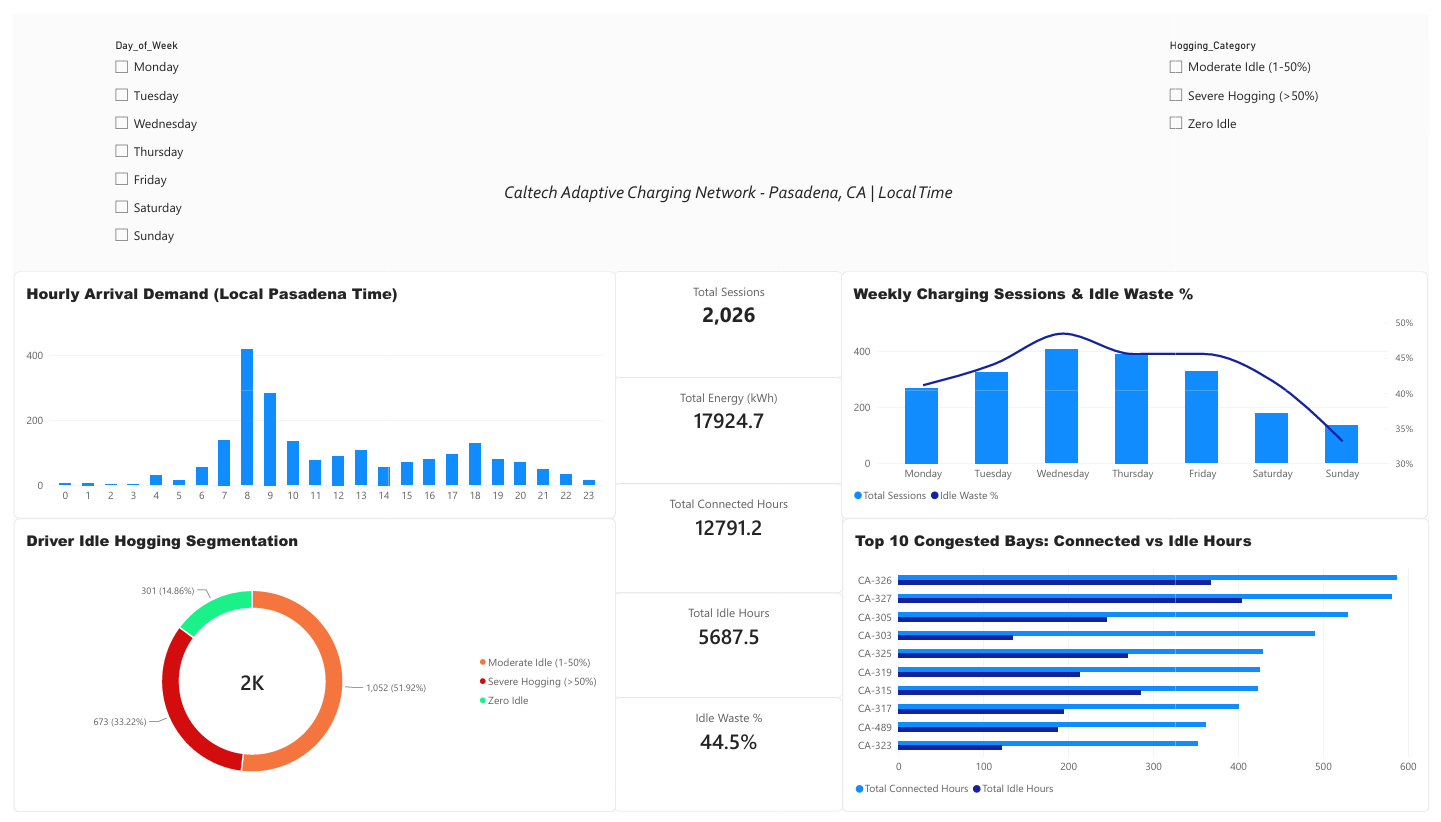

Layout of this report page (visuals, bound fields, positions):
{"tool":"powerbi","page":{"name":"Page 1","canvas":[1920,1080],"ordinal":0},"visuals":[{"type":"textbox","box":[467.2,140,1031.2,140],"z":1},{"type":"textbox","box":[664.8,226.4,798.6,53.5],"z":2},{"type":"slicer","fields":{"Values":["ACN_Cleaned_Real.Day_of_Week"]},"box":[129.7,32.9,279.9,352],"z":3},{"type":"slicer","fields":{"Values":["ACN_Cleaned_Real.Hogging_Category"]},"box":[1560.2,32.9,317,333.4],"z":4},{"type":"cardVisual","fields":{"Data":["ACN_Cleaned_Real.Total Sessions"]},"box":[813,347.9,312.9,144.1],"z":5},{"type":"cardVisual","fields":{"Data":["ACN_Cleaned_Real.Total Energy (kWh)"]},"box":[813,491.9,312.9,144.1],"z":6},{"type":"cardVisual","fields":{"Data":["ACN_Cleaned_Real.Total Connected Hours"]},"box":[813,636,312.9,148.2],"z":7},{"type":"cardVisual","fields":{"Data":["ACN_Cleaned_Real.Total Idle Hours"]},"box":[813,784.2,312.9,142],"z":8},{"type":"cardVisual","fields":{"Data":["ACN_Cleaned_Real.Idle Waste %"]},"box":[813,926.2,312.9,154.4],"z":9},{"type":"clusteredColumnChart","title":"Hourly Arrival Demand (Local Pasadena Time)","fields":{"Category":["ACN_Cleaned_Real.Arrival_Hour"],"Y":["ACN_Cleaned_Real.Total Sessions"]},"box":[0,347.9,817.2,335.5],"z":10},{"type":"lineClusteredColumnComboChart","title":"Weekly Charging Sessions & Idle Waste %","fields":{"Category":["ACN_Cleaned_Real.Day_of_Week"],"Y":["ACN_Cleaned_Real.Total Sessions"],"Y2":["ACN_Cleaned_Real.Idle Waste %"]},"box":[1121.8,347.9,796.6,335.5],"z":11},{"type":"donutChart","title":"Driver Idle Hogging Segmentation","fields":{"Category":["ACN_Cleaned_Real.Hogging_Category"],"Y":["ACN_Cleaned_Real.Total Sessions"]},"box":[0,683.4,817.2,397.3],"z":12},{"type":"clusteredBarChart","title":"Top 10 Congested Bays: Connected vs Idle Hours","fields":{"Category":["ACN_Cleaned_Real.spaceID"],"Y":["ACN_Cleaned_Real.Total Connected Hours","ACN_Cleaned_Real.Total Idle Hours"]},"box":[1123.8,683.4,796.6,397.3],"z":13}]}

Visuals, with their boxes in screenshot pixels (x1, y1, x2, y2), scaled from the page's 1920x1080 canvas onto the 1441x822 screenshot:
textbox: <box>351,107,1125,213</box>
textbox: <box>499,172,1098,213</box>
slicer - ACN_Cleaned_Real.Day_of_Week: <box>97,25,307,293</box>
slicer - ACN_Cleaned_Real.Hogging_Category: <box>1171,25,1409,279</box>
cardVisual - ACN_Cleaned_Real.Total Sessions: <box>610,265,845,374</box>
cardVisual - ACN_Cleaned_Real.Total Energy (kWh): <box>610,374,845,484</box>
cardVisual - ACN_Cleaned_Real.Total Connected Hours: <box>610,484,845,597</box>
cardVisual - ACN_Cleaned_Real.Total Idle Hours: <box>610,597,845,705</box>
cardVisual - ACN_Cleaned_Real.Idle Waste %: <box>610,705,845,821</box>
"Hourly Arrival Demand (Local Pasadena Time)" clusteredColumnChart: <box>0,265,613,520</box>
"Weekly Charging Sessions & Idle Waste %" lineClusteredColumnComboChart: <box>842,265,1440,520</box>
"Driver Idle Hogging Segmentation" donutChart: <box>0,520,613,821</box>
"Top 10 Congested Bays: Connected vs Idle Hours" clusteredBarChart: <box>843,520,1440,821</box>
